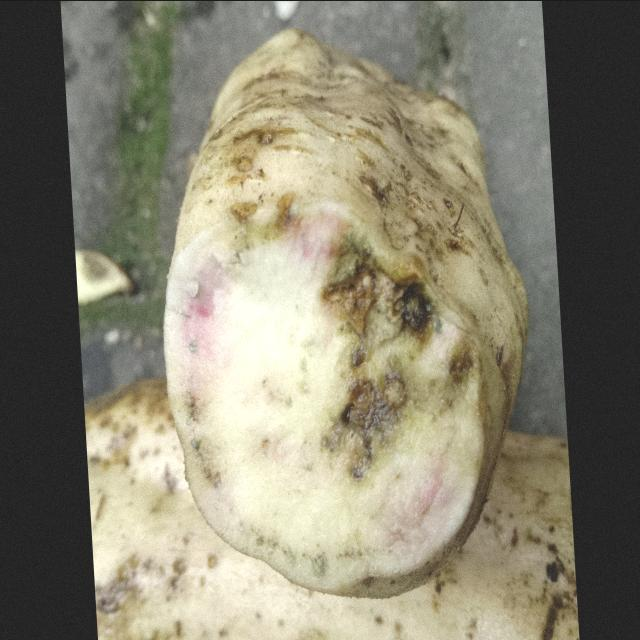Sick Sweet Potato_Tuber Rot: (165, 193, 489, 597)
